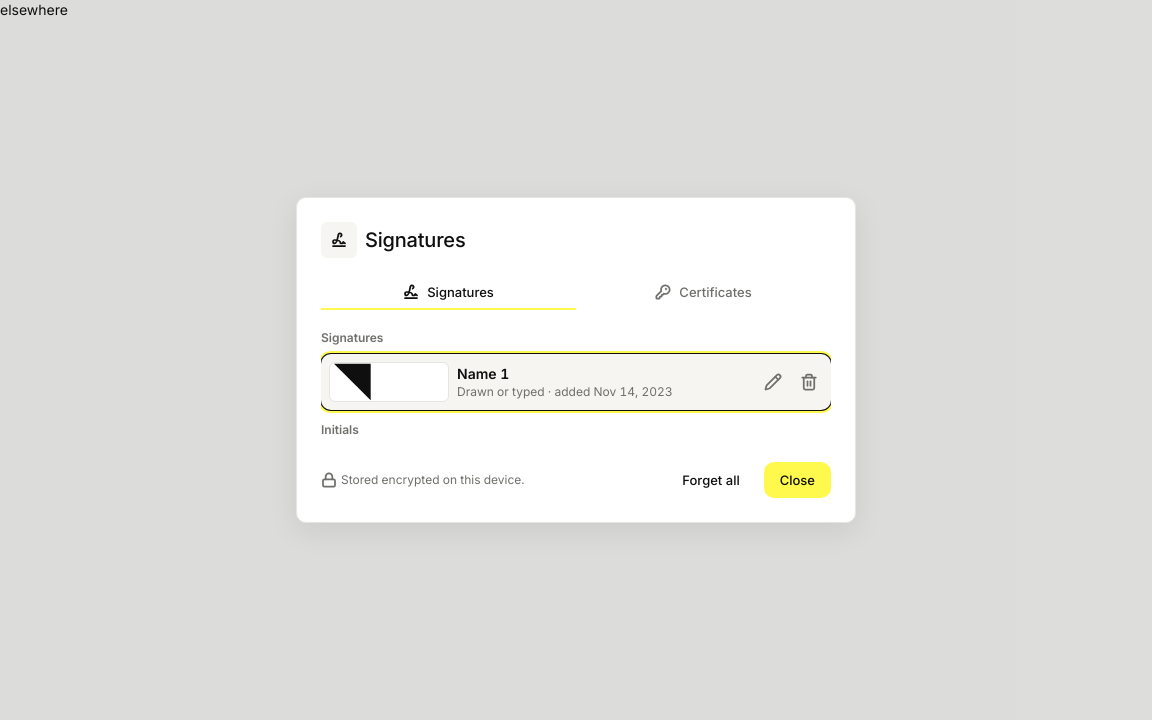
Test: the signature library › renames in place on Enter and keeps the old name on Esc
The width and height of the screenshot is (1152, 720).
Step 1. Click the button named "Rename" → (773, 382), box left=759, top=368, right=787, bottom=396
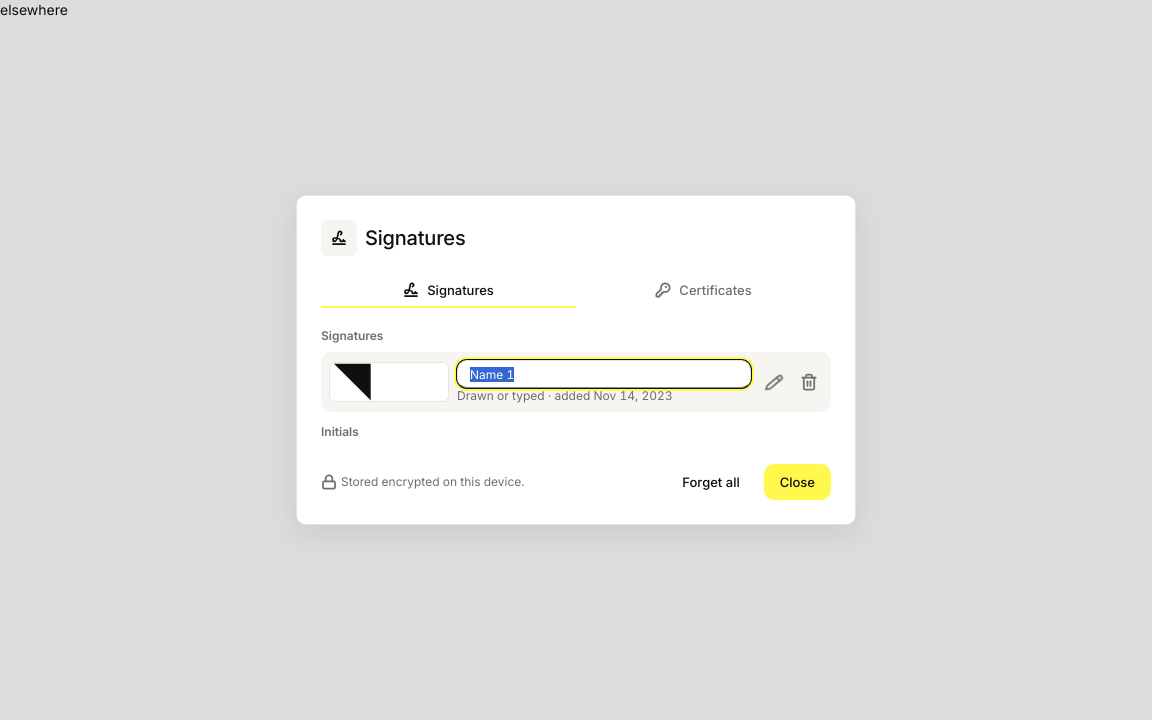
Step 2. Replace the text in the field named "Name" with "My sign" → (604, 374), box left=457, top=360, right=751, bottom=388
Then press Enter
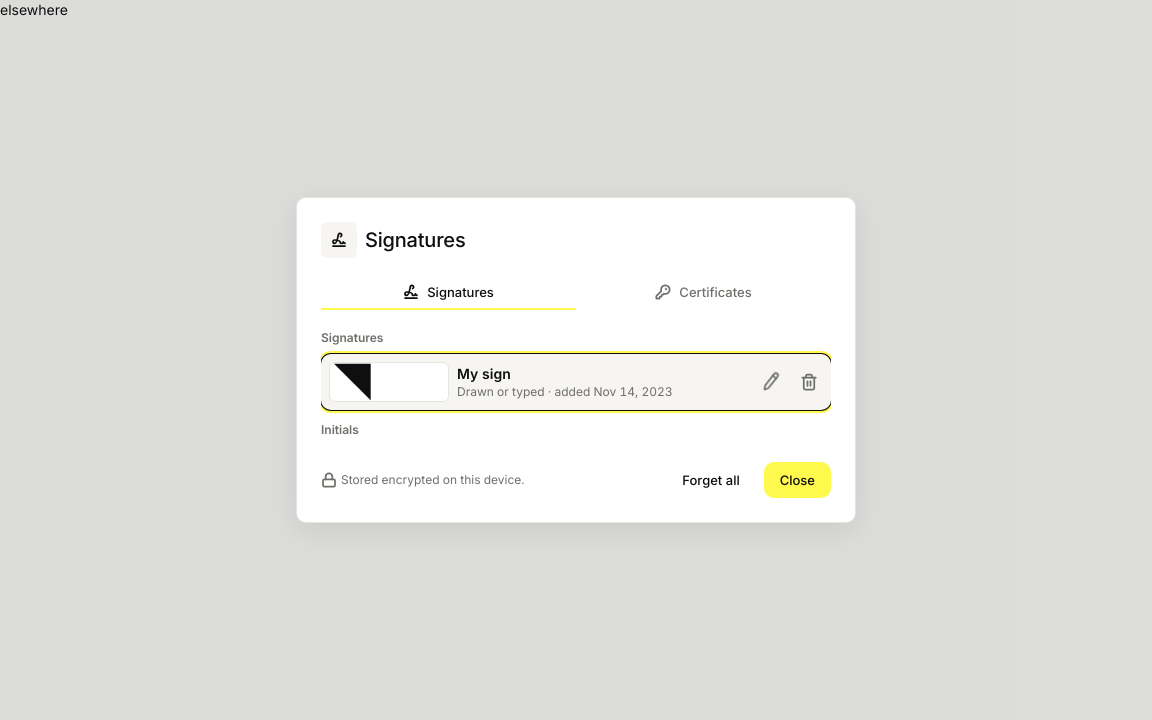
Result: the text "My sign" is shown at left=457, top=365, right=511, bottom=382
Step 3. Click the button named "Rename" → (773, 382), box left=759, top=368, right=787, bottom=396
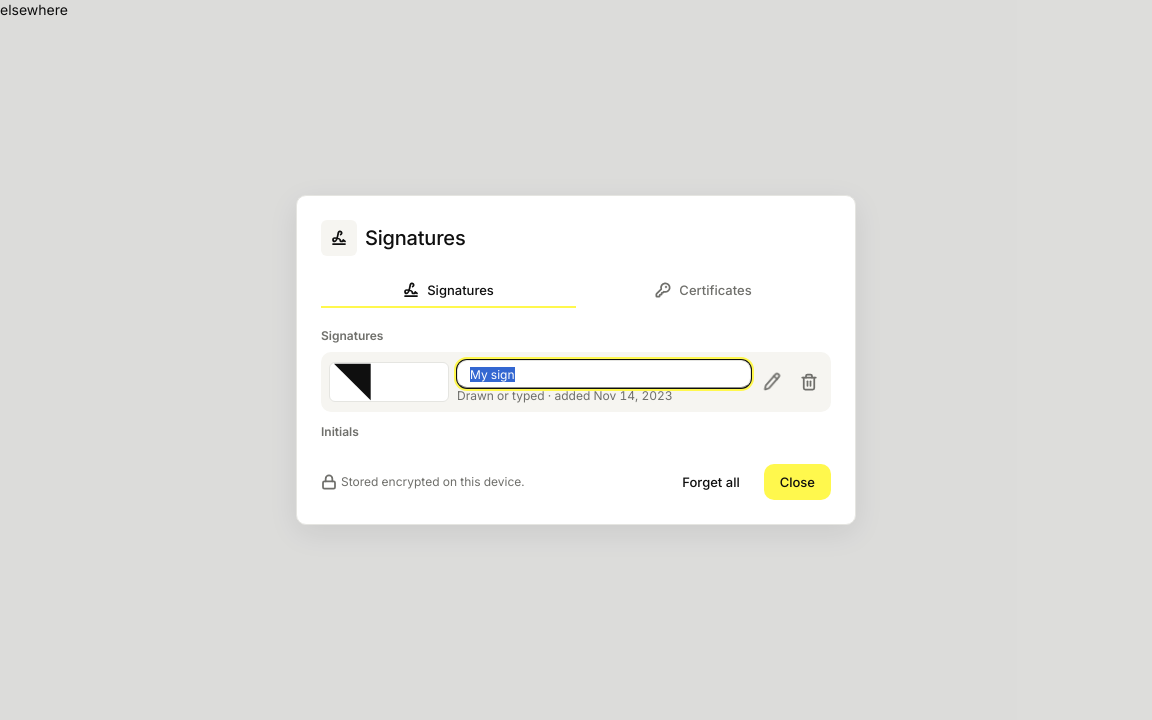
Step 4. Type "zzz" into the field named "Name" → (604, 374), box left=457, top=360, right=751, bottom=388
Then press Escape
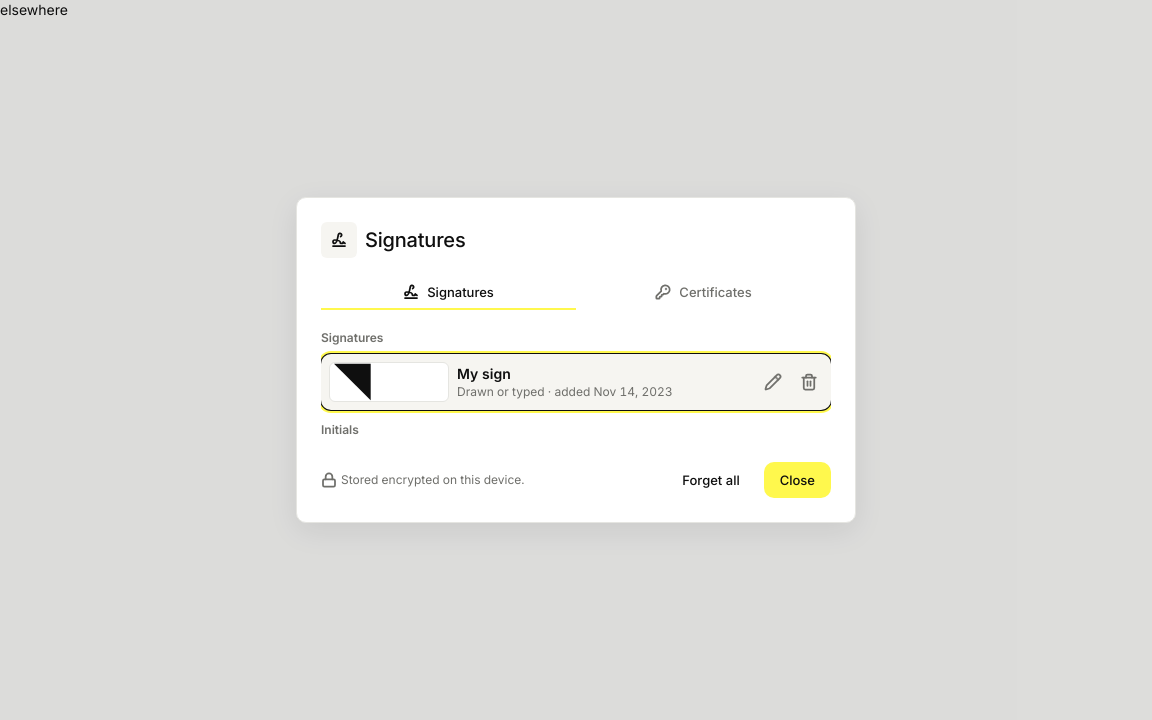
Result: the text "My sign" is shown at left=457, top=365, right=511, bottom=382
